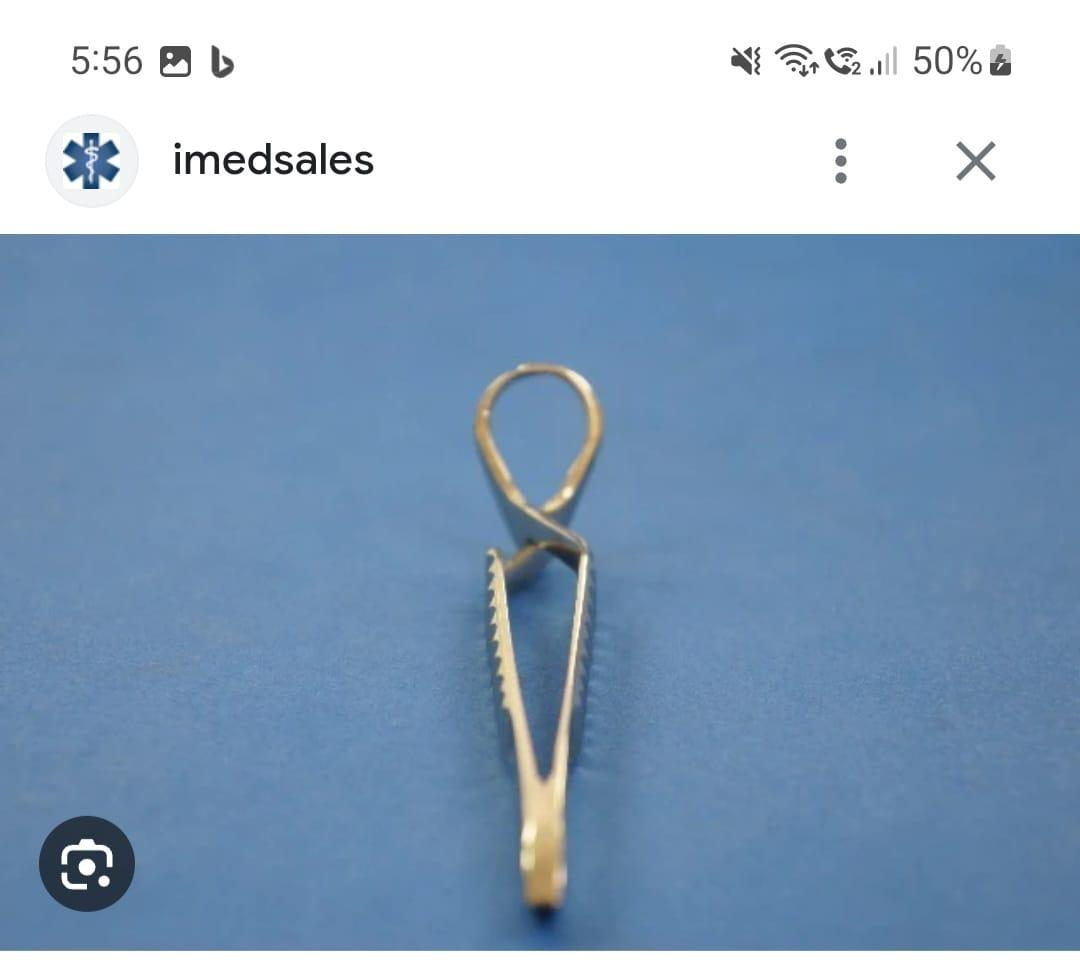Jones Towel Clamp: (467, 347, 621, 923)
